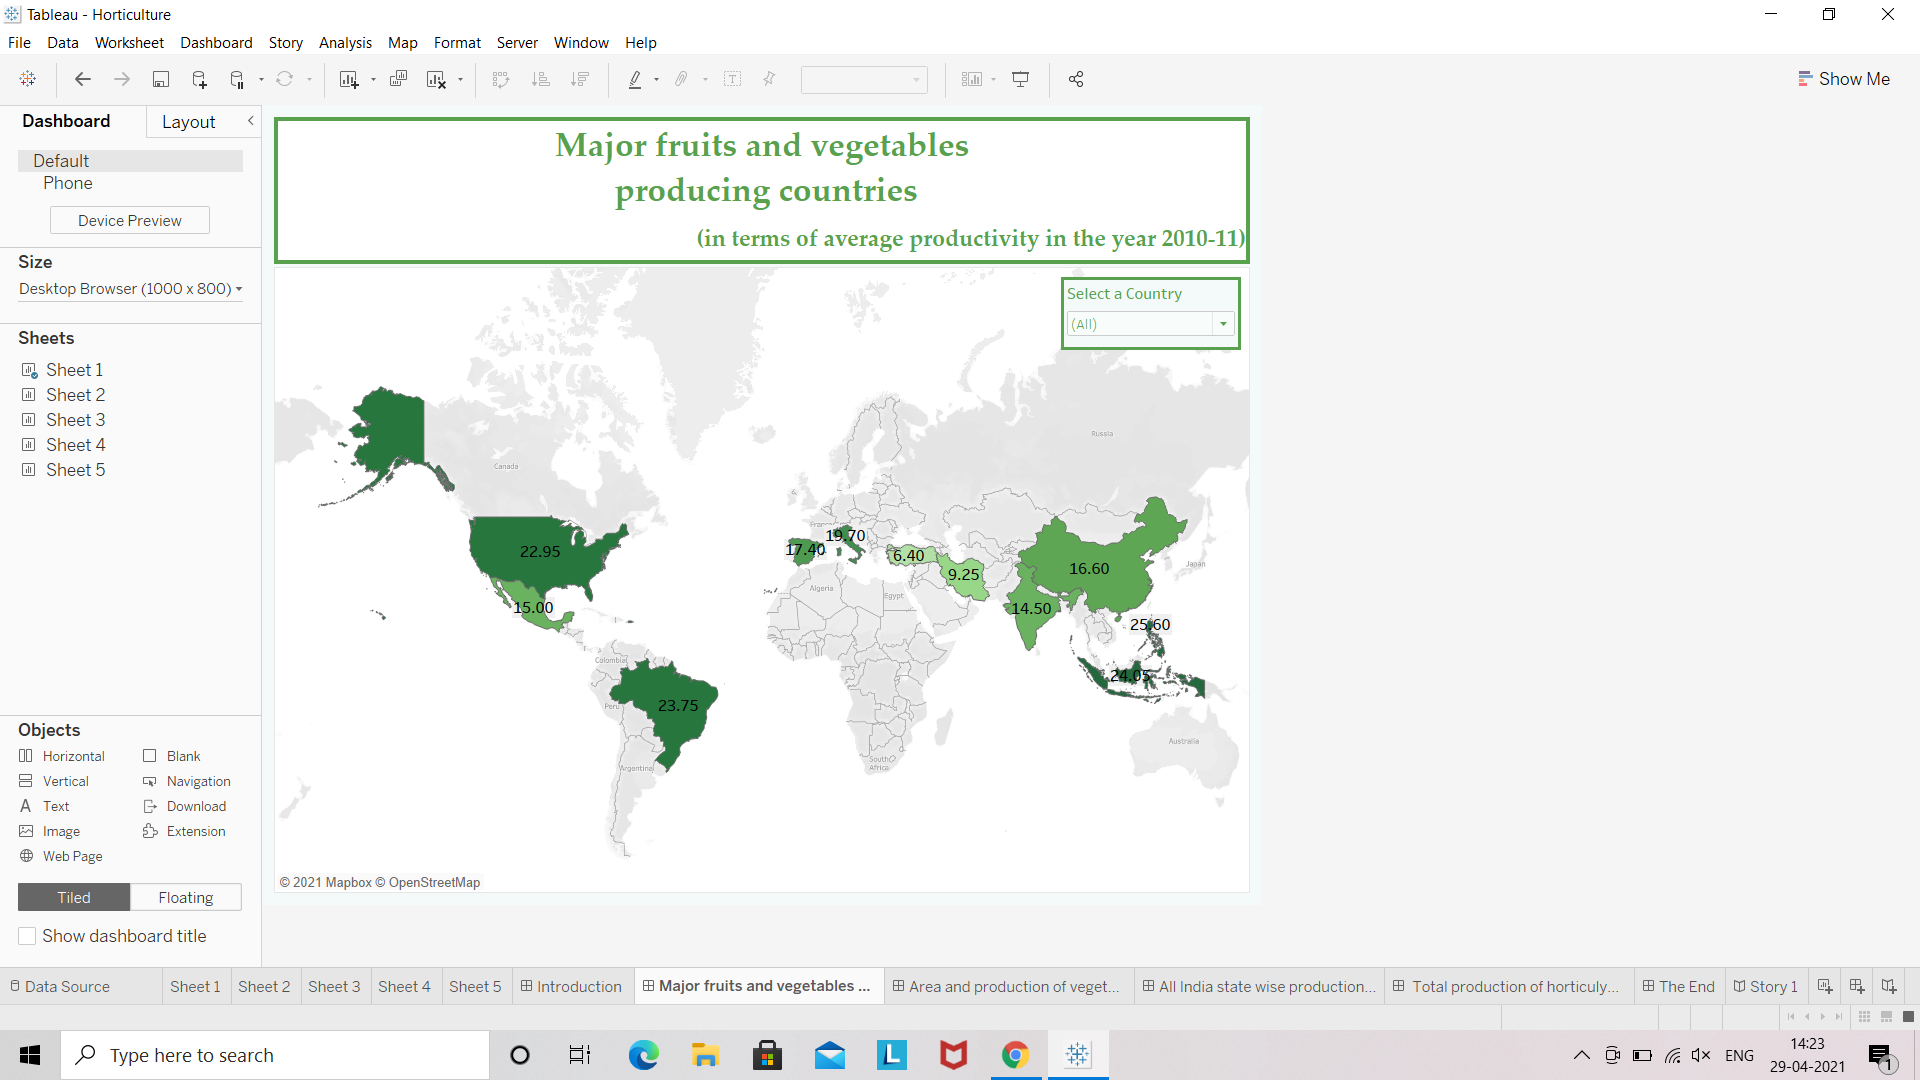

The dashboard page shown, as its layout file describes it:
{"tool":"tableau","page":{"name":"Major fruits and vegetables producing countries","canvas":[1000,800],"ordinal":6},"visuals":[{"type":"worksheet","box":[0,0,1000,800]},{"type":"worksheet","param":"horz","box":[8,8,984,784]},{"type":"worksheet","title":"Sheet 1","mark":"Automatic","box":[8,8,984,784]},{"type":"worksheet","title":"Sheet 1","mark":"Automatic","param":"[federated.0979pps181x04j1ax4u9m0y4y249].[none:Country:nk]","box":[799,172,180,73]}]}

Visuals, with their boxes on the page's 1000x800 design canvas (x1, y1, x2, y2). These are canvas units, not pixel positions in the 1920x1080 screenshot, which may show the page scaled, cropped or inside an application window:
worksheet: 0, 0, 1000, 800
worksheet: 8, 8, 992, 792
"Sheet 1" worksheet: 8, 8, 992, 792
"Sheet 1" worksheet: 799, 172, 979, 245
